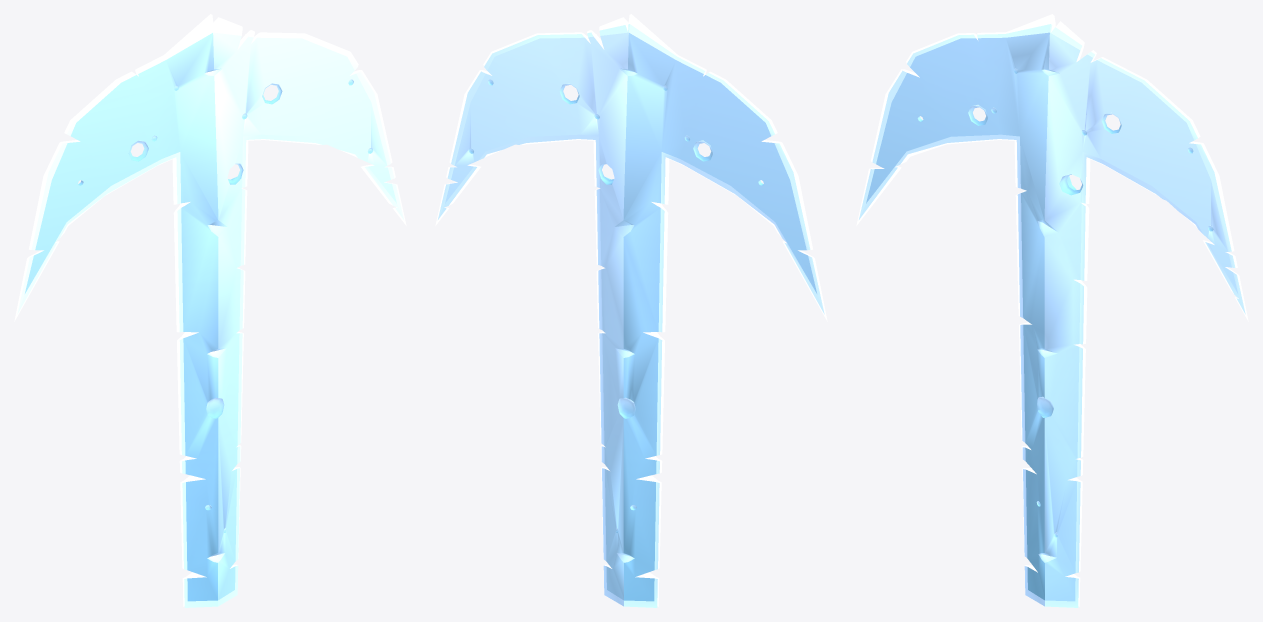
File: steel_blade_bubbles_049.glb
The picture shows the model from 3 angles, left to right: view 1: azimuth 30°, elevation 25°; view 2: azimuth 150°, elevation 25°; view 3: azimuth 330°, elevation 25°; orthographic projection.
Parts seen in each view (by area): view 1: steel_blade_bubbles.049; view 2: steel_blade_bubbles.049; view 3: steel_blade_bubbles.049.
Boxes of the visible parts, x1,y1,x2,y2 form: steel_blade_bubbles.049: [14, 14, 406, 607]; steel_blade_bubbles.049: [435, 14, 827, 607]; steel_blade_bubbles.049: [856, 14, 1248, 607].
Bounding box in the file's own units: 8.24 × 11.78 × 0.5822.
Materials: 1 (1 with a texture image).
